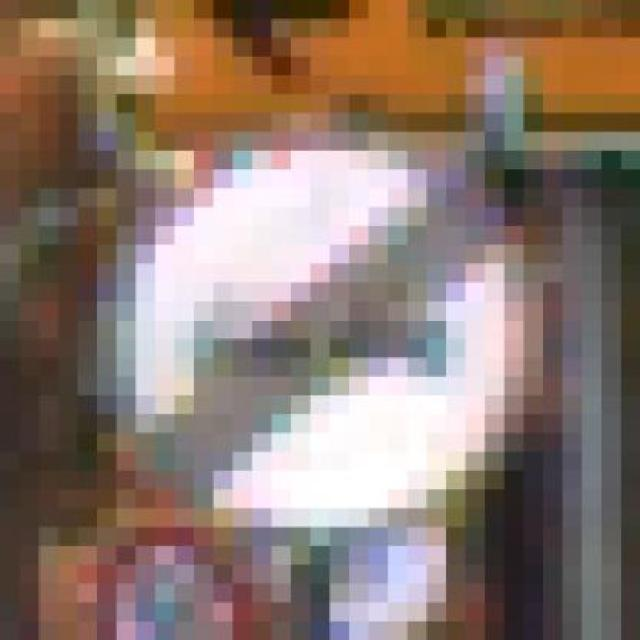No_Over_Taking: (78, 93, 582, 564)
